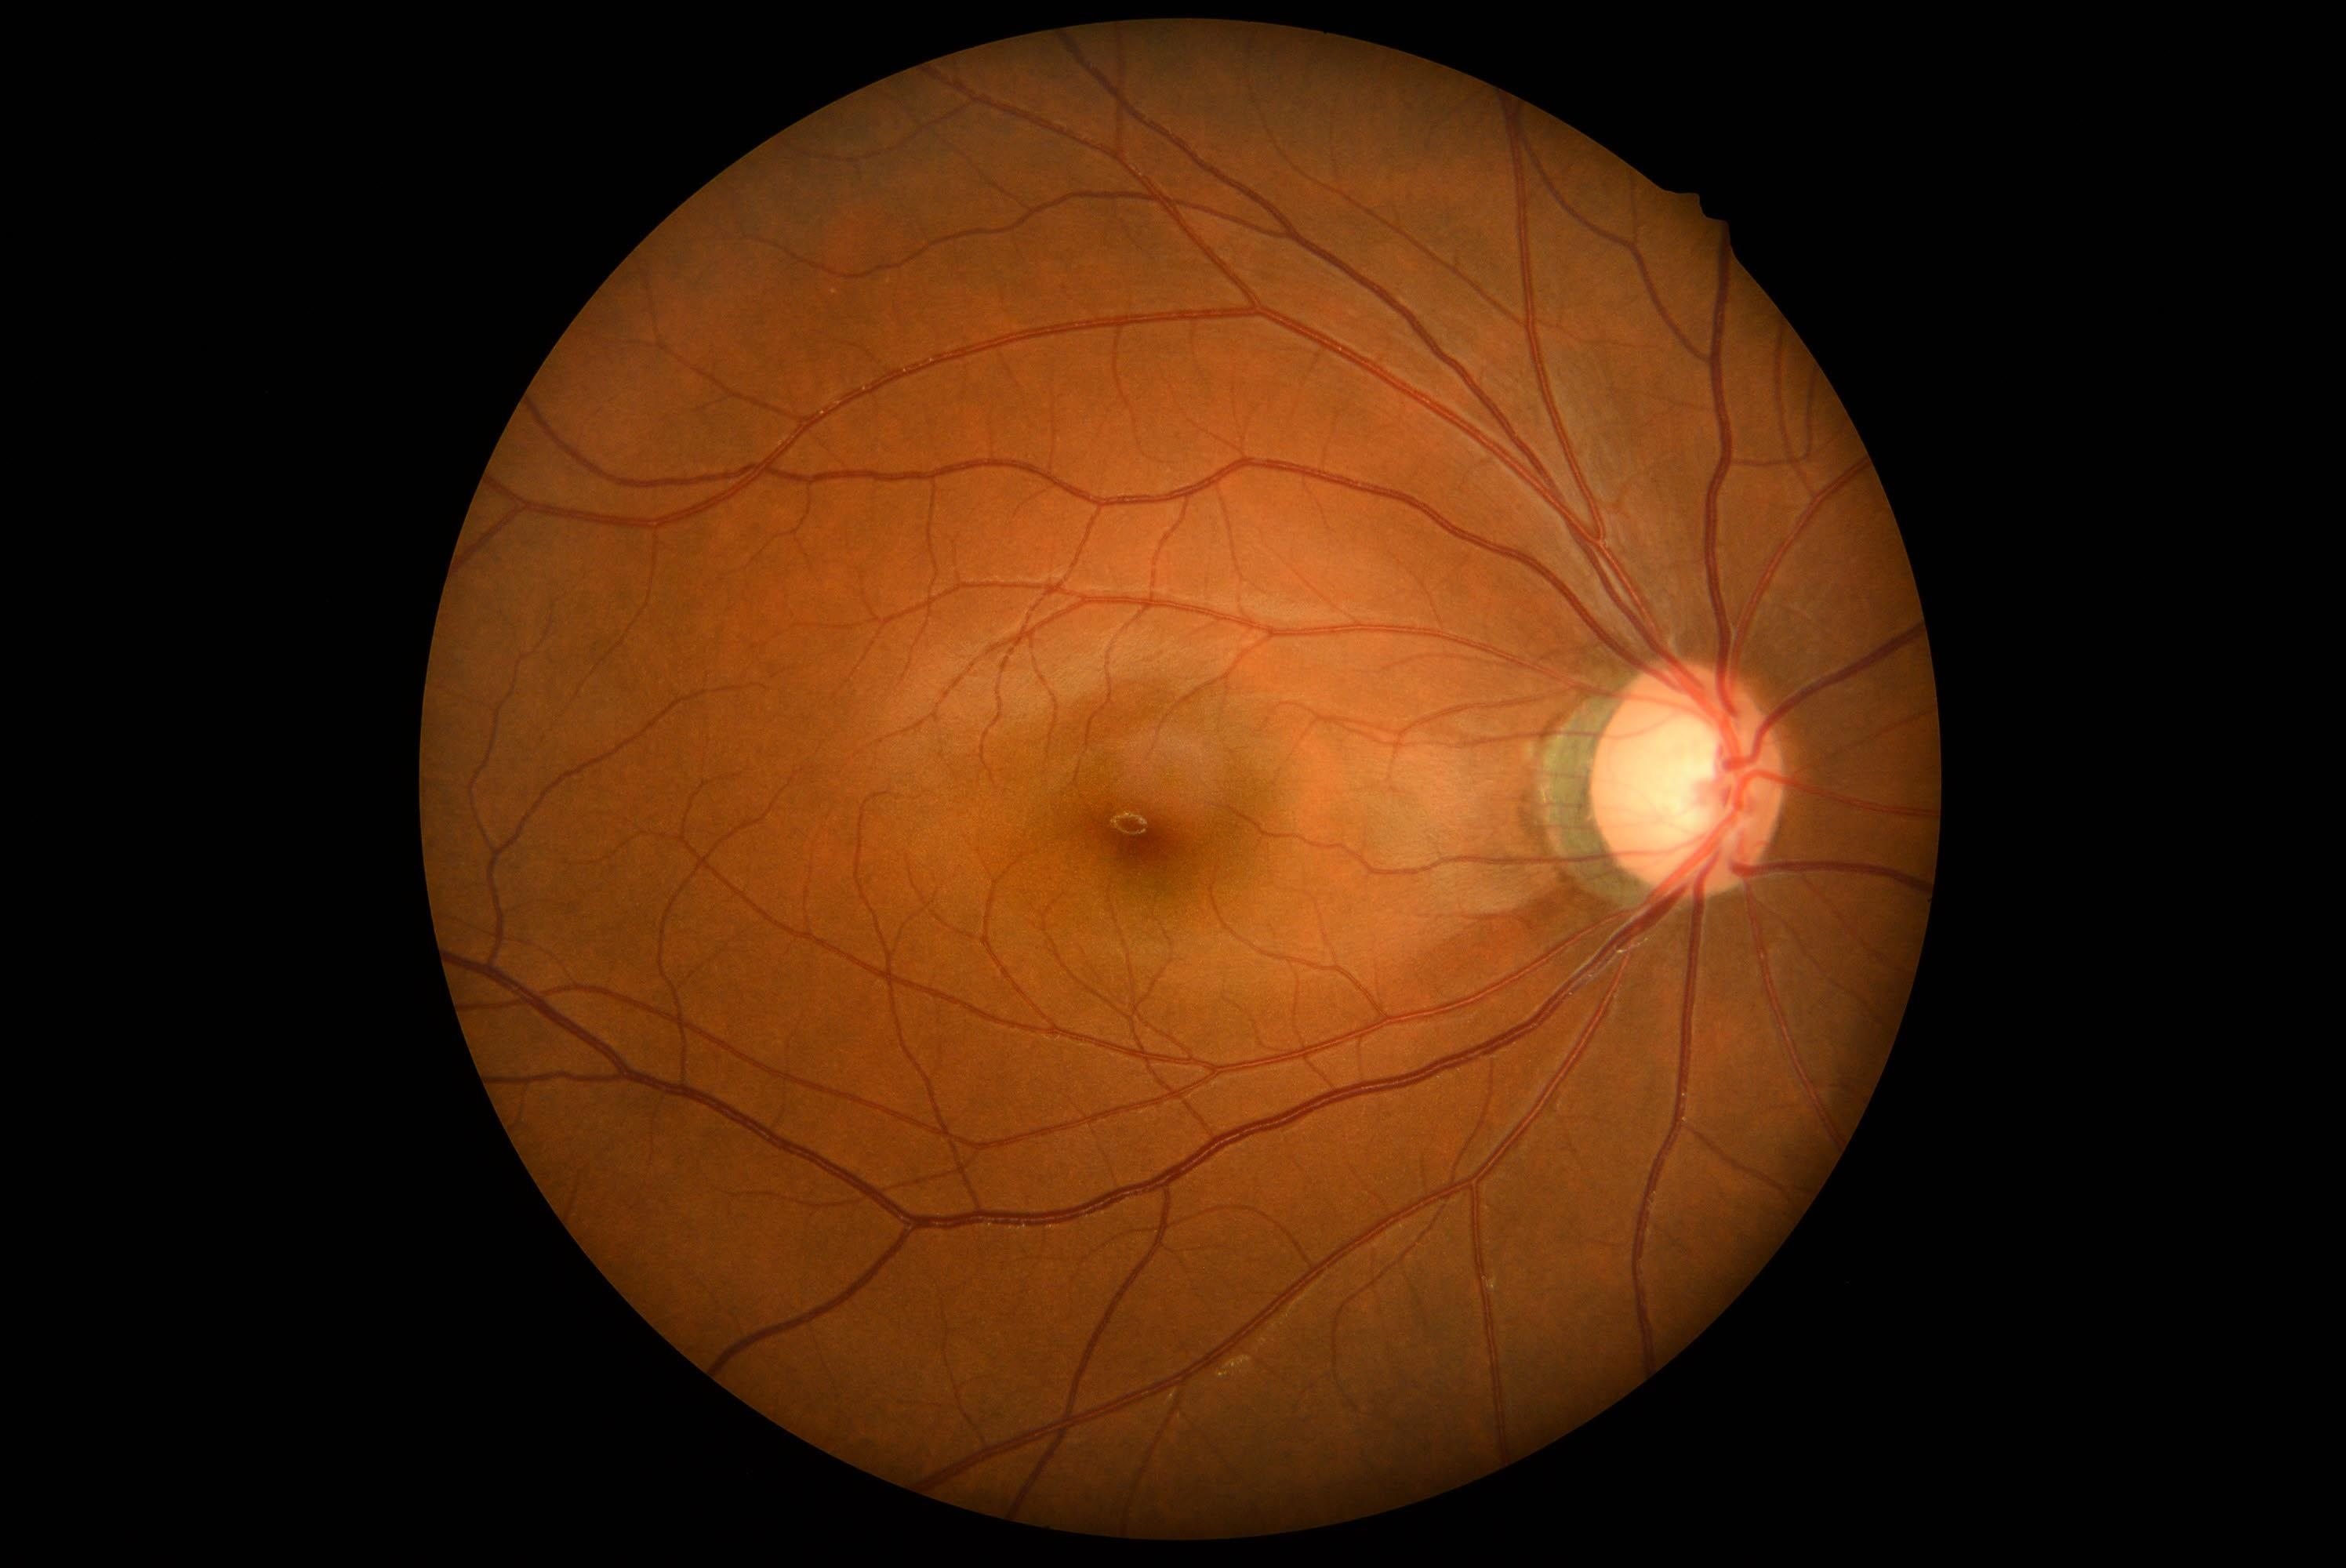Fovea: (1057, 744, 1205, 898)
